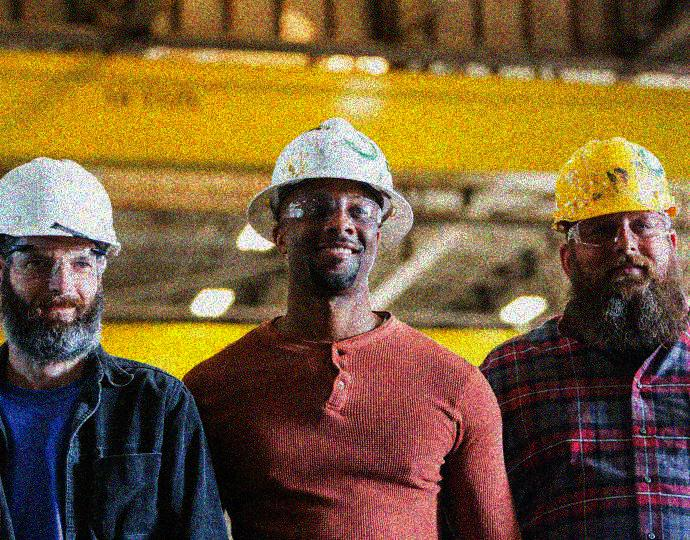helmet: (242, 116, 415, 291), (1, 157, 125, 364), (553, 137, 682, 299)
